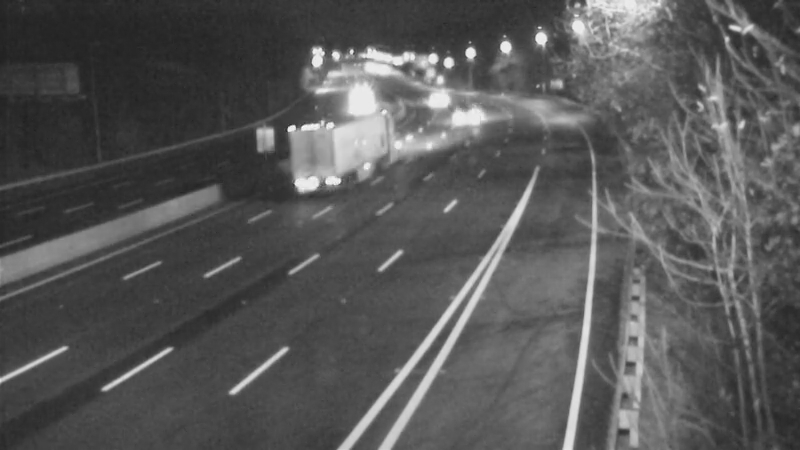vehicle: (411, 75, 461, 125), (441, 88, 491, 138), (294, 120, 344, 170), (335, 81, 385, 131)
